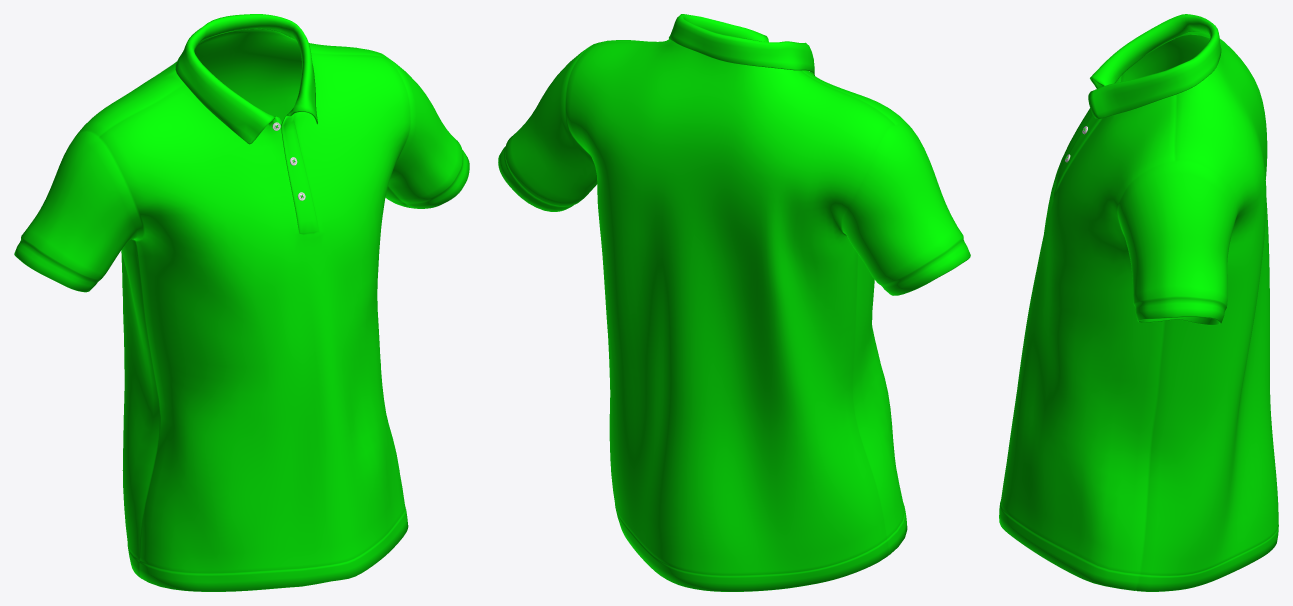
File: mens tshirt3.glb
3 renders of one model, left to right at view 1: azimuth 30°, elevation 25°; view 2: azimuth 150°, elevation 25°; view 3: azimuth 270°, elevation 25°, orthographic. The views are drawn at different scales.
Parts seen in each view (by area): view 1: Polo Shirt.001; view 2: Polo Shirt.001; view 3: Polo Shirt.001.
Boxes of the visible parts, x1=… form: Polo Shirt.001: x1=14, y1=14, x2=469, y2=591; Polo Shirt.001: x1=498, y1=14, x2=970, y2=591; Polo Shirt.001: x1=999, y1=14, x2=1278, y2=591.
Size of the model in its own units: 0.6433 by 0.7101 by 0.3541.
